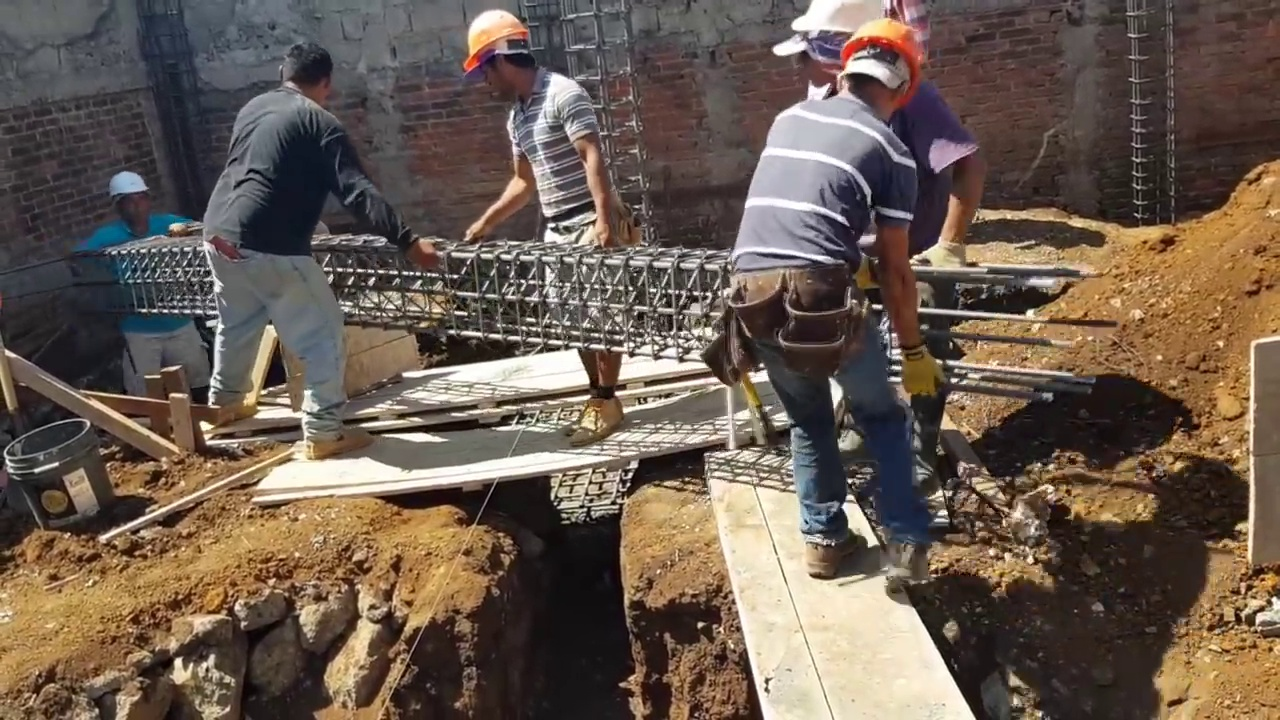helmet: (843, 17, 924, 103), (456, 9, 529, 77), (790, 0, 886, 38), (106, 170, 152, 197)
helmet-off: (279, 43, 336, 105)
helmet-on: (773, 0, 888, 90), (836, 18, 925, 124), (456, 8, 544, 111), (108, 170, 151, 234)
person: (702, 31, 967, 604), (189, 38, 465, 482), (457, 7, 640, 427), (774, 0, 978, 307), (67, 164, 195, 394)
